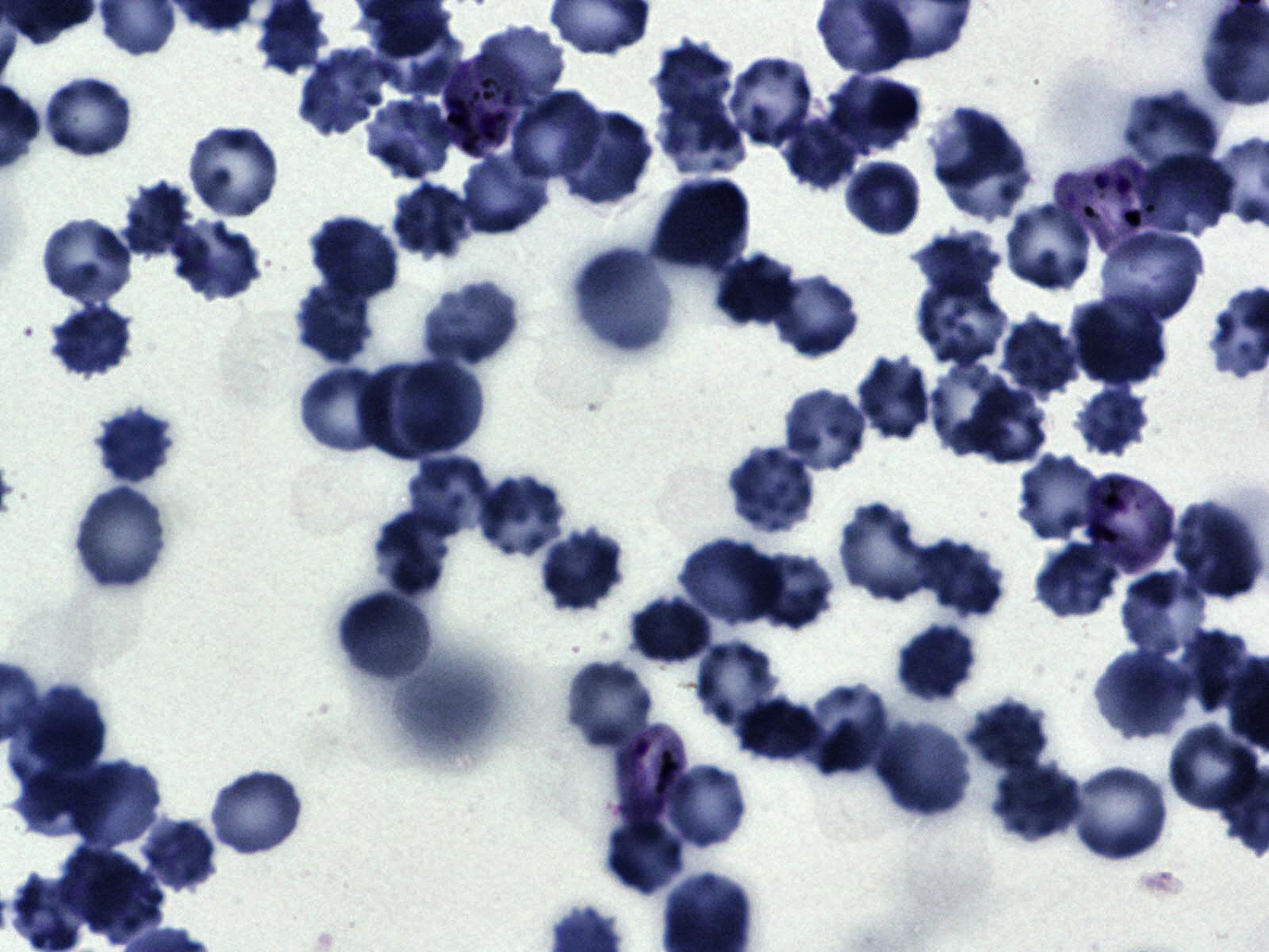Infected: (1053, 153, 1160, 261), (440, 52, 525, 159), (1082, 471, 1170, 572), (619, 721, 688, 831)
Uninfected: (572, 248, 673, 354), (71, 484, 170, 592), (1066, 765, 1171, 864), (835, 501, 933, 605), (1097, 230, 1204, 324), (877, 720, 972, 820), (336, 590, 435, 685), (295, 363, 397, 455), (657, 176, 753, 273), (935, 129, 1034, 223), (358, 362, 453, 459), (187, 124, 279, 224), (1174, 502, 1266, 602), (560, 111, 654, 208), (1068, 296, 1167, 388), (1164, 723, 1264, 814), (677, 540, 777, 631), (1091, 650, 1187, 743), (1001, 200, 1098, 292), (562, 659, 655, 753), (688, 639, 779, 735), (208, 769, 306, 858), (913, 277, 1011, 366), (38, 218, 138, 305), (1122, 92, 1216, 181), (424, 280, 520, 367), (726, 56, 817, 147), (803, 681, 891, 775), (71, 761, 163, 850), (39, 75, 135, 160), (477, 476, 569, 564), (1140, 154, 1235, 239), (726, 448, 819, 534), (397, 357, 483, 450), (991, 758, 1083, 844), (458, 154, 551, 238), (769, 275, 861, 359), (372, 508, 455, 601), (826, 71, 920, 152), (933, 363, 1014, 457), (781, 389, 870, 474), (311, 217, 400, 302), (297, 52, 389, 134), (404, 454, 496, 536), (655, 99, 749, 179), (661, 764, 748, 850), (512, 89, 599, 175), (539, 528, 627, 612), (603, 816, 692, 897), (364, 99, 454, 179), (1116, 576, 1204, 657), (30, 684, 105, 779), (172, 219, 261, 299), (56, 845, 136, 933), (743, 551, 836, 626), (375, 15, 462, 95), (968, 386, 1051, 469), (293, 281, 377, 363), (81, 865, 165, 947), (1017, 455, 1095, 543), (920, 536, 1003, 618), (479, 25, 562, 107), (896, 623, 980, 704), (715, 249, 799, 330), (92, 405, 175, 486), (1033, 544, 1121, 620), (51, 300, 136, 378), (855, 357, 931, 444), (391, 182, 474, 261), (967, 700, 1052, 777), (842, 160, 924, 239), (138, 816, 219, 895), (999, 319, 1078, 400), (630, 592, 715, 667), (734, 694, 821, 766), (782, 114, 860, 194), (929, 108, 1010, 185), (913, 230, 1001, 297), (657, 42, 738, 114), (1184, 628, 1251, 714), (125, 185, 194, 262), (1072, 388, 1150, 455)
